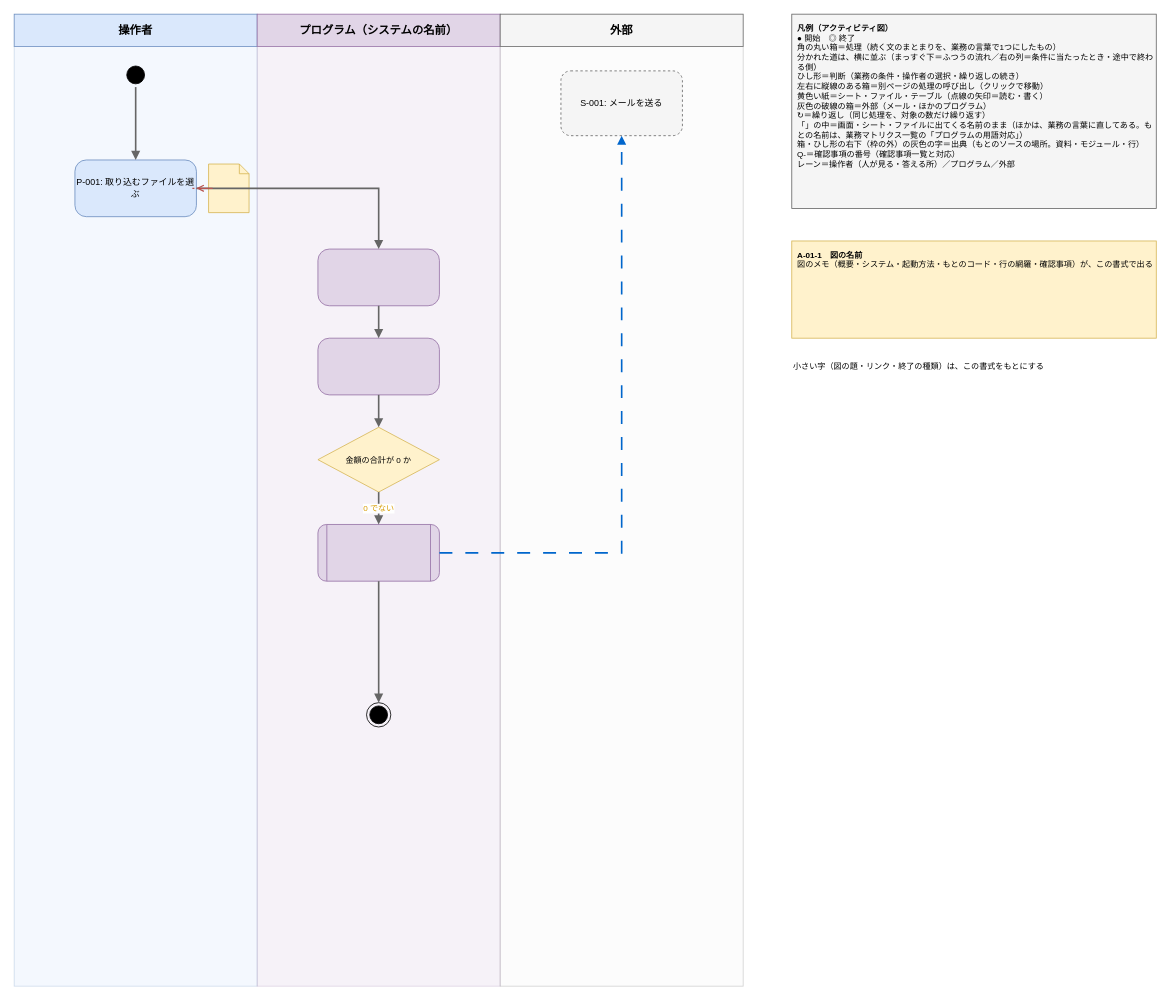
The diagram is 1170 pixels wide and 1000 high, and some of its shapes have lost their labels. Here are the shapes that lost their labels. From the top down, the centre of each, then its label:
point 228,188: F-001 ファイル 売上明細.csv
point 378,277: P-002: 「売上明細.csv」を読む
point 378,366: P-003: 「請求一覧」に、1行ずつ書く
point 378,552: SUB-001: 請求書を作る → 別ページ A-01-2
